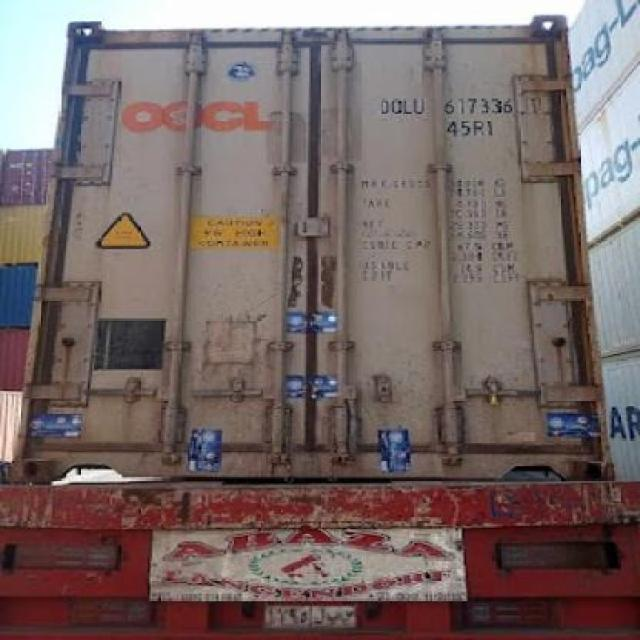ISO: (444, 118, 496, 138)
container_number: (384, 96, 550, 117)
